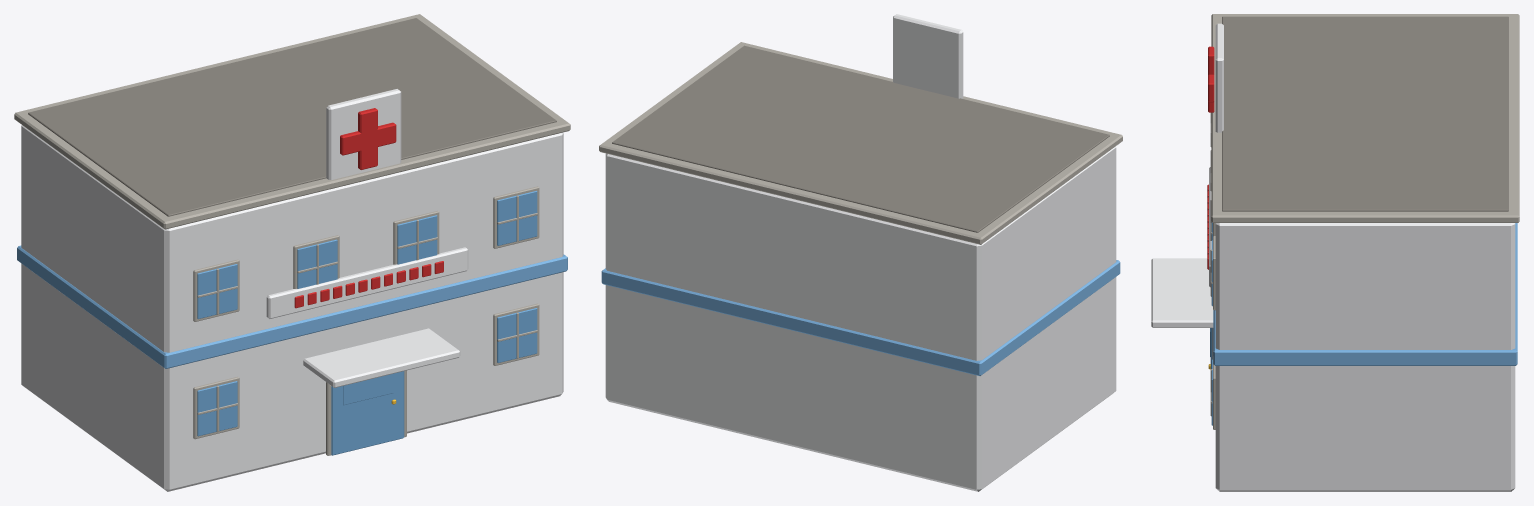
The model's file is Hospital.fbx.
The picture shows the model from 3 angles, left to right: view 1: azimuth 30°, elevation 25°; view 2: azimuth 150°, elevation 25°; view 3: azimuth 270°, elevation 25°; orthographic projection. The views are drawn at different scales.
Visible parts, largest first — view 1: Hospital; view 2: Hospital; view 3: Hospital.
Part boxes in pixels (box(x1,y1,x2,y2)): Hospital: box(14, 14, 570, 491); Hospital: box(599, 14, 1122, 491); Hospital: box(1151, 14, 1519, 491).
Size of the model in its own units: 22.4 by 18.2 by 17.2.
1 material, 1 textured.
